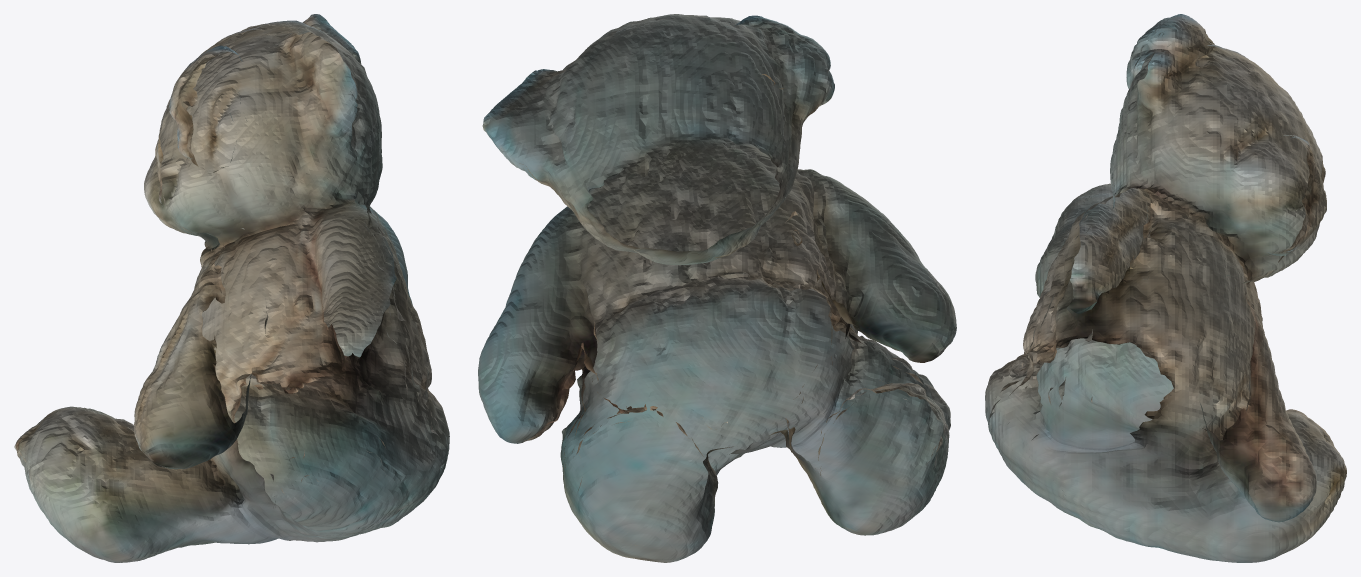
3 renders of one model, left to right at view 1: azimuth 30°, elevation 25°; view 2: azimuth 150°, elevation 25°; view 3: azimuth 270°, elevation 25°, orthographic. The views are drawn at different scales.
Visible parts, largest first — view 1: geometry_0; view 2: geometry_0; view 3: geometry_0.
Boxes of the visible parts, bbox=[...] form: geometry_0: bbox=[14, 14, 449, 562]; geometry_0: bbox=[478, 14, 956, 562]; geometry_0: bbox=[985, 14, 1346, 562].
Bounding box in the file's own units: 1.36 × 1.6 × 1.06.
